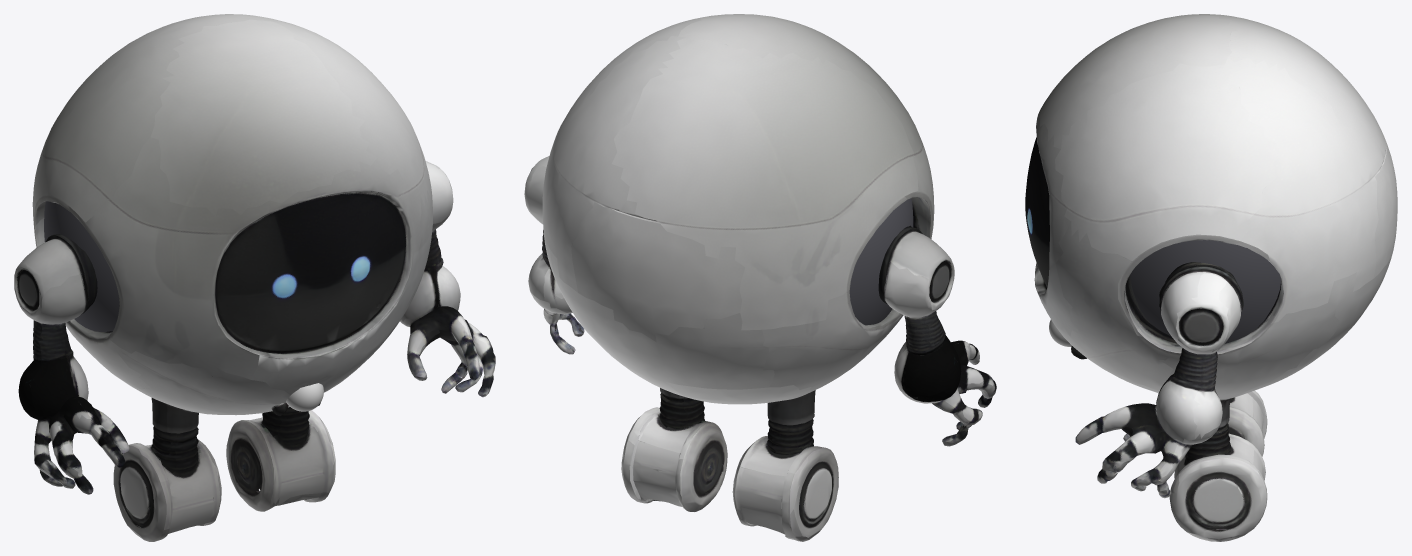
The model's file is wendy.glb.
The picture shows the model from 3 angles, left to right: view 1: azimuth 30°, elevation 25°; view 2: azimuth 150°, elevation 25°; view 3: azimuth 270°, elevation 25°; orthographic projection. The views are drawn at different scales.
Parts seen in each view (by area): view 1: a floating robot which look..., Sphere (×2); view 2: a floating robot which look..., Sphere; view 3: a floating robot which look..., Sphere.
Part boxes in pixels (box(x1,y1,x2,y2)): a floating robot which look...: box(14, 14, 495, 541); Sphere (×2): box(44, 201, 323, 411); a floating robot which look...: box(524, 14, 996, 541); Sphere: box(849, 198, 913, 325); a floating robot which look...: box(1025, 14, 1397, 541); Sphere: box(1130, 240, 1280, 343).
Size of the model in its own units: 6.11 by 6.48 by 4.65.
Materials: 5 (1 with a texture image).
